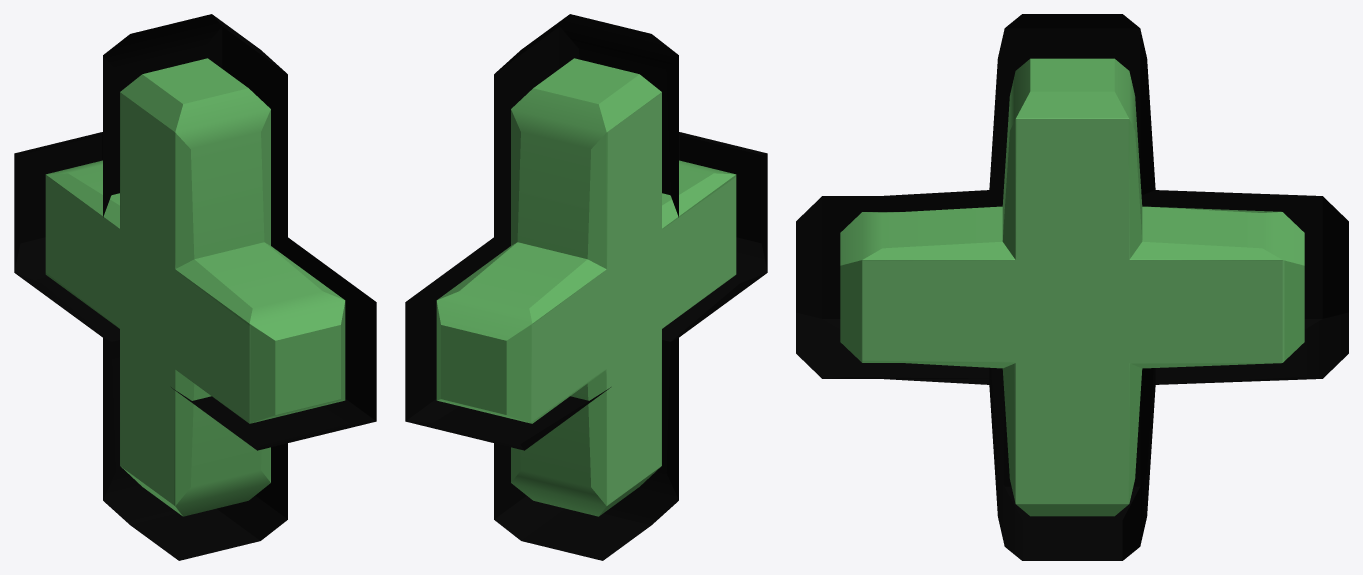
Rendered from pickups.fbx.
3 views of the same model, side by side, from view 1: azimuth 30°, elevation 25°; view 2: azimuth 150°, elevation 25°; view 3: azimuth 270°, elevation 25° (orthographic). The views are drawn at different scales.
Visible parts, largest first — view 1: Health; view 2: Health; view 3: Health.
Part boxes in pixels (x1,y1,x2,y2): Health: (14,14,376,560); Health: (405,14,767,560); Health: (796,14,1348,560).
Size of the model in its own units: 0.1436 by 0.5647 by 0.5594.
